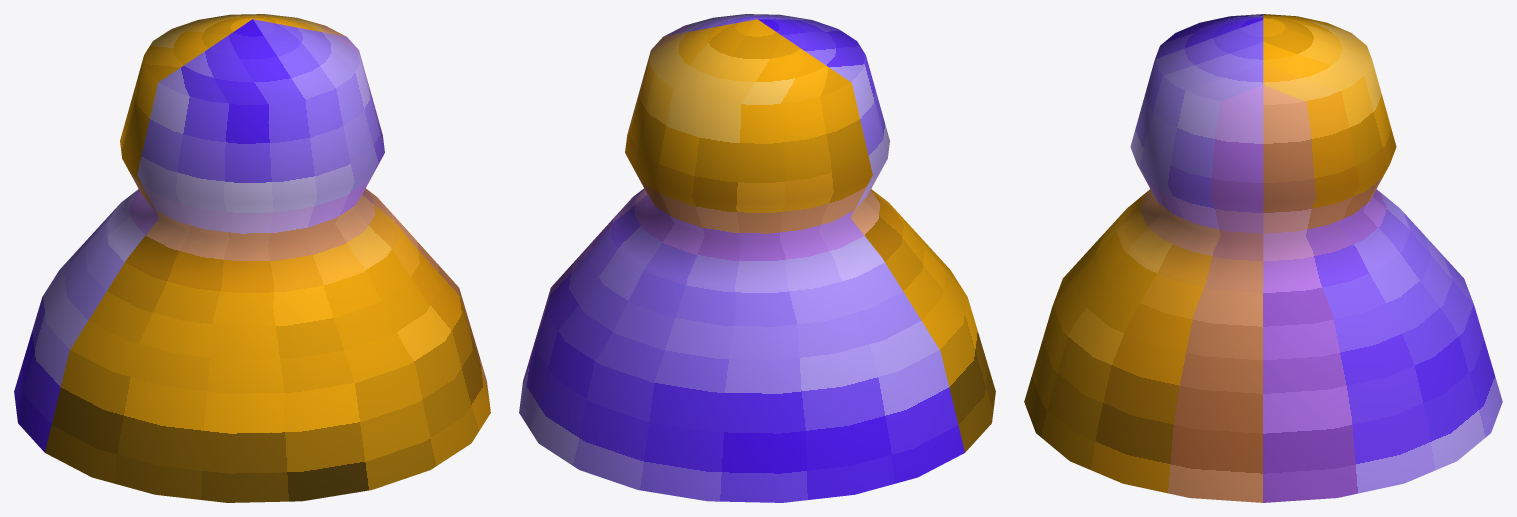
Rendered from ToqueSmallThickness.fbx.
3 views of the same model, side by side, from view 1: azimuth 30°, elevation 25°; view 2: azimuth 150°, elevation 25°; view 3: azimuth 270°, elevation 25° (orthographic).
Visible parts, largest first — view 1: SmallThicknessToqueModel; view 2: SmallThicknessToqueModel; view 3: SmallThicknessToqueModel.
Part boxes in pixels (x1,y1,x2,y2): SmallThicknessToqueModel: (14, 14, 490, 502); SmallThicknessToqueModel: (519, 14, 995, 502); SmallThicknessToqueModel: (1024, 14, 1502, 502).
Bounding box in the file's own units: 51.98 × 45.81 × 51.98.
